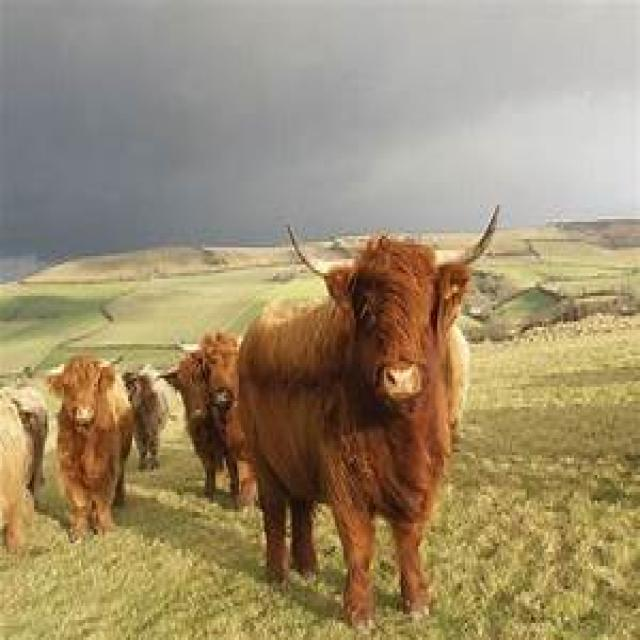cow: (233, 239, 471, 631), (43, 356, 137, 546), (171, 333, 243, 506)
